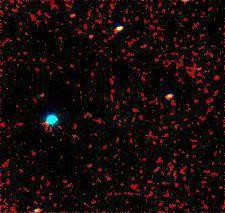star: (60, 5, 90, 35)
